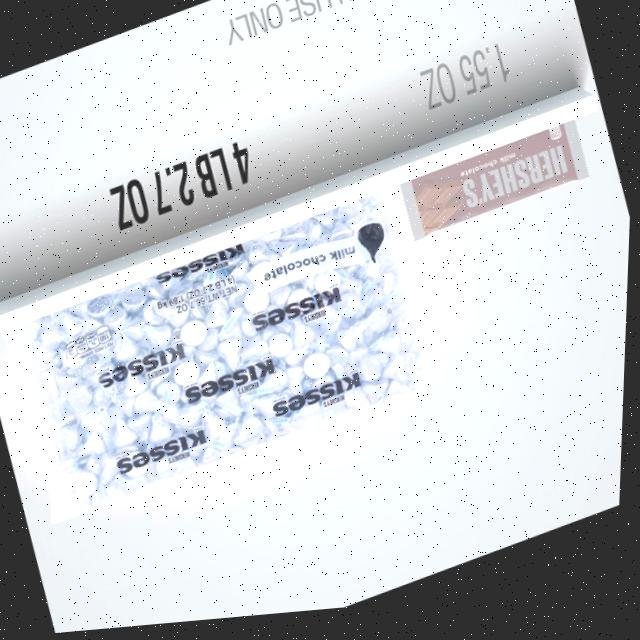kisses: (215, 336, 253, 381), (142, 318, 179, 360), (107, 415, 143, 457), (110, 327, 146, 369), (37, 319, 73, 359), (130, 388, 169, 424), (170, 358, 207, 395), (177, 318, 214, 355), (65, 378, 100, 416), (144, 414, 178, 450), (303, 354, 337, 389), (100, 305, 134, 340), (269, 334, 300, 368), (335, 328, 367, 359)
